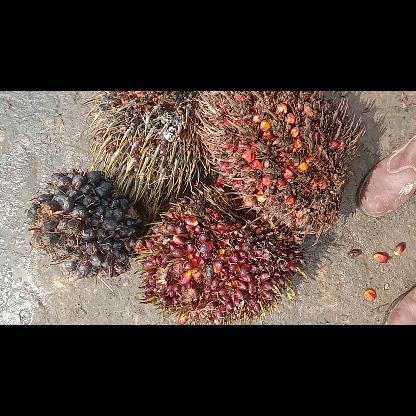TBS abnormal: (85, 93, 205, 207)
TBS masak: (136, 186, 306, 324)
TBS mentah: (27, 170, 141, 278)
Terlalu masak: (197, 91, 365, 241)
